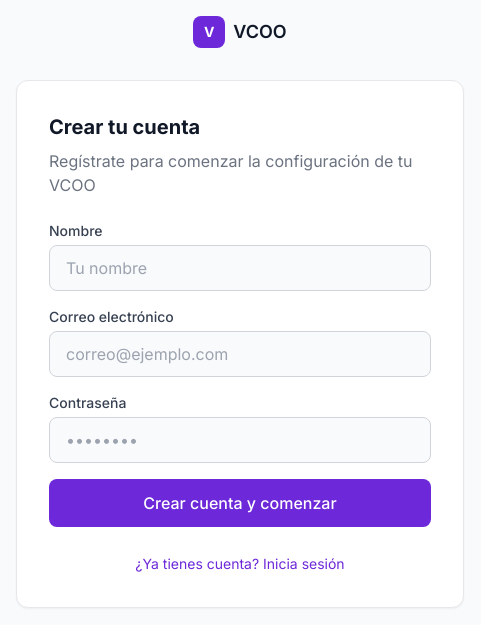
Test: SetupWizard › permite cambiar a iniciar sesion en AuthForm
Click the button "¿Ya tienes cuenta? Inicia sesión". click: coordinates (240, 564)
box: [135, 554, 345, 574]
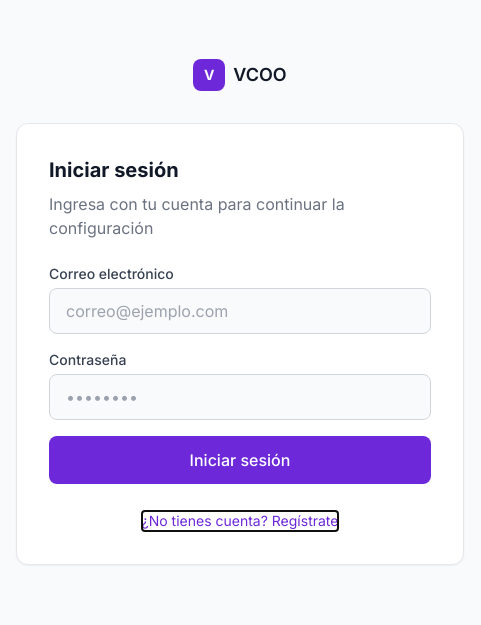
Expected: the heading "Iniciar sesión" is shown, [49, 158, 179, 182]
